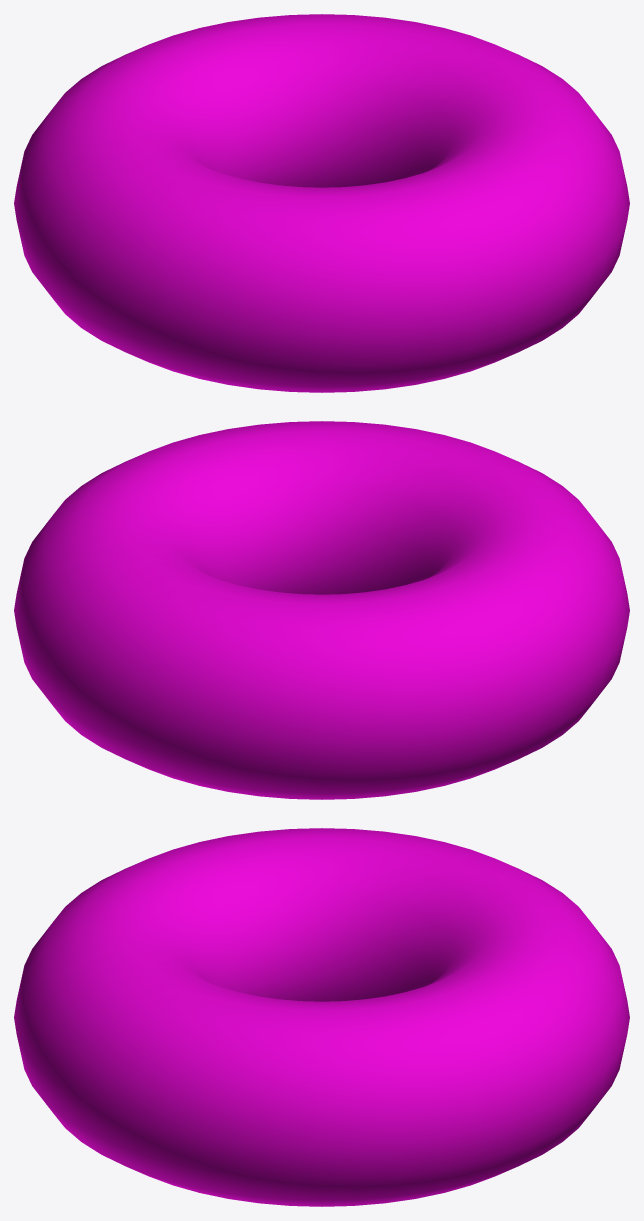
3 renders of one model, top to bottom at view 1: azimuth 30°, elevation 25°; view 2: azimuth 150°, elevation 25°; view 3: azimuth 270°, elevation 25°, orthographic.
Visible parts, largest first — view 1: Torus; view 2: Torus; view 3: Torus.
Part boxes in pixels (x1,y1,x2,y2): Torus: [14, 14, 629, 392]; Torus: [14, 421, 629, 799]; Torus: [14, 828, 629, 1206].
Size of the model in its own units: 3 by 1 by 3.
